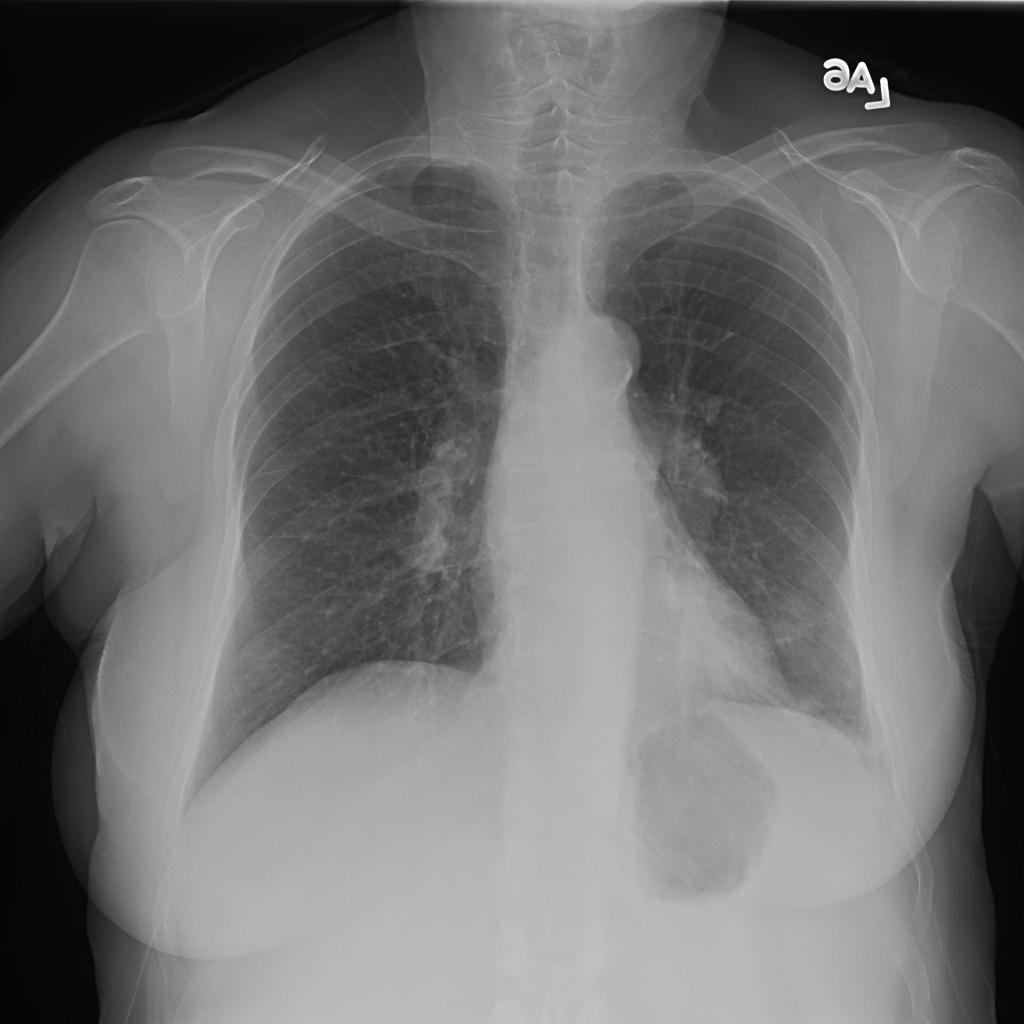Nodule: (388, 289, 414, 327)
